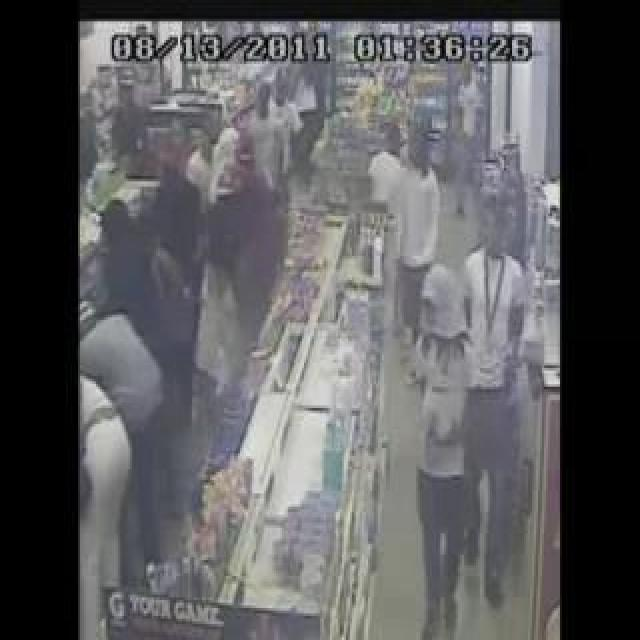thief: (417, 209, 523, 361), (107, 196, 183, 326), (190, 141, 254, 251), (77, 342, 138, 437), (245, 73, 298, 169), (375, 119, 422, 212)
